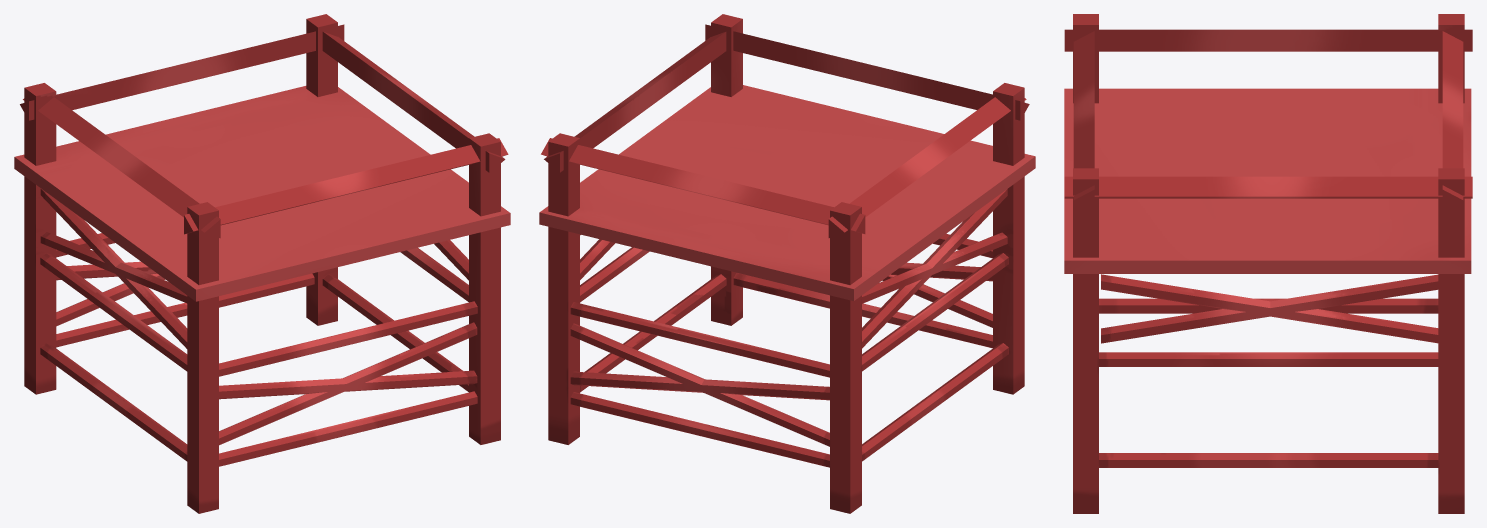
The model's file is Andaime.fbx.
3 views of the same model, side by side, from view 1: azimuth 30°, elevation 25°; view 2: azimuth 150°, elevation 25°; view 3: azimuth 270°, elevation 25° (orthographic). The views are drawn at different scales.
Visible parts, largest first — view 1: Cylinder.012; view 2: Cylinder.012; view 3: Cylinder.012.
Part boxes in pixels (<box>): Cylinder.012: <box>14,14,510,513</box>; Cylinder.012: <box>539,14,1035,513</box>; Cylinder.012: <box>1064,14,1472,513</box>.
Size of the model in its own units: 976 by 879 by 972.
